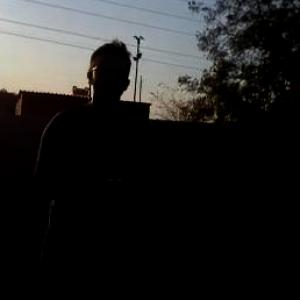follow: (27, 32, 154, 299)
